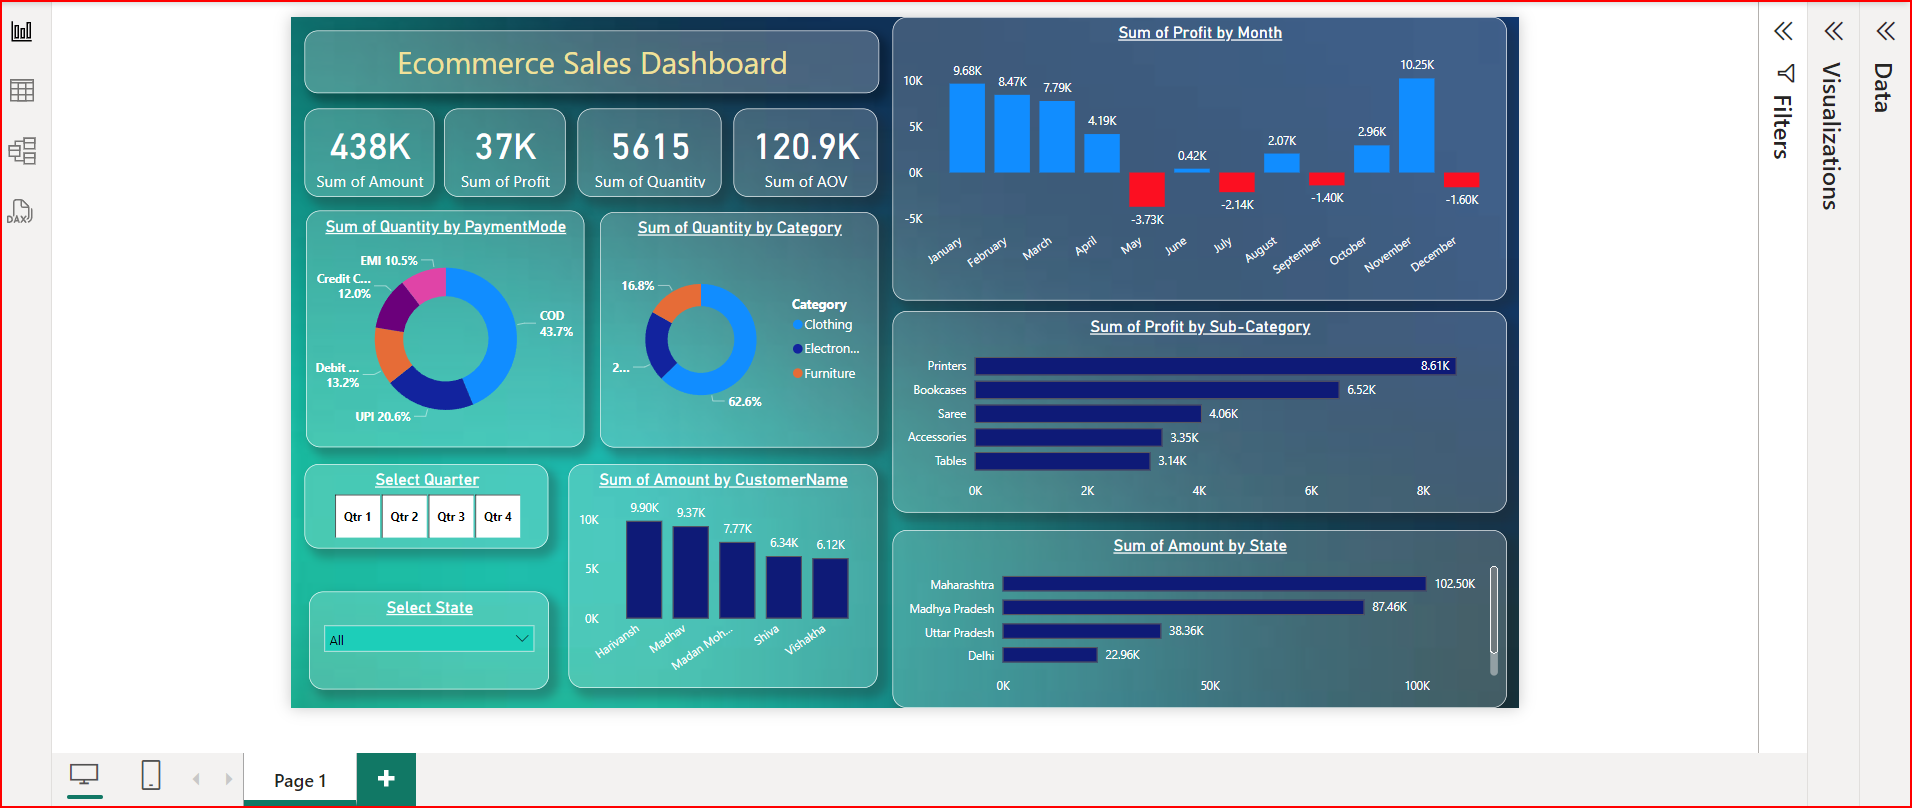

What the dashboard file says about the page in this screenshot:
{"tool":"powerbi","page":{"name":"Page 1","canvas":[1280,720],"ordinal":0},"visuals":[{"type":"textbox","box":[13.3,13.3,598.3,65],"z":0},{"type":"columnChart","fields":{"Y":["Sum(Details.Profit)"],"Category":["Orders.Order Date.Variation.Date Hierarchy.Month"]},"box":[626.7,0,640,295],"z":1000},{"type":"barChart","fields":{"Category":["Details.Sub-Category"],"Y":["Sum(Details.Profit)"]},"box":[626.7,306.7,640,210],"z":2000},{"type":"donutChart","fields":{"Category":["Details.Category"],"Y":["Sum(Details.Quantity)"]},"box":[321.7,203.3,290,245],"z":3000},{"type":"card","fields":{"Values":["Sum(Details.Amount)"]},"box":[13.3,95,135,91.7],"z":4000},{"type":"card","fields":{"Values":["Sum(Details.Profit)"]},"box":[160,95,126.7,91.7],"z":5000},{"type":"card","fields":{"Values":["Sum(Details.Quantity)"]},"box":[298.3,95,150,91.7],"z":6000},{"type":"card","fields":{"Values":["Sum(Details.AOV)"]},"box":[461.7,95,150,91.7],"z":7000},{"type":"barChart","fields":{"Category":["Orders.State","Details.Sub-Category"],"Y":["Sum(Details.Amount)"]},"box":[626.7,535,640,185],"z":8000},{"type":"donutChart","fields":{"Category":["Details.PaymentMode"],"Y":["Sum(Details.Quantity)"]},"box":[15,201.7,290,246.7],"z":9000},{"type":"columnChart","fields":{"Category":["Orders.CustomerName"],"Y":["Sum(Details.Amount)"]},"box":[288.3,465,321.7,233.3],"z":10000},{"type":"slicer","title":"Select Quarter","fields":{"Values":["Orders.Order Date.Variation.Date Hierarchy.Quarter"]},"box":[14,466,254,88],"z":11000},{"type":"slicer","title":"Select State","fields":{"Values":["Orders.State"]},"box":[18,598,250,102],"z":12000}]}

Visuals, with their boxes on the page's 1280x720 design canvas (x1, y1, x2, y2). These are canvas units, not pixel positions in the 1912x808 screenshot, which may show the page scaled, cropped or inside an application window:
textbox: pyautogui.locateOnScreen(13, 13, 612, 78)
columnChart - Sum(Details.Profit) x Orders.Order Date.Variation.Date Hierarchy.Month: pyautogui.locateOnScreen(627, 0, 1267, 295)
barChart - Details.Sub-Category x Sum(Details.Profit): pyautogui.locateOnScreen(627, 307, 1267, 517)
donutChart - Details.Category x Sum(Details.Quantity): pyautogui.locateOnScreen(322, 203, 612, 448)
card - Sum(Details.Amount): pyautogui.locateOnScreen(13, 95, 148, 187)
card - Sum(Details.Profit): pyautogui.locateOnScreen(160, 95, 287, 187)
card - Sum(Details.Quantity): pyautogui.locateOnScreen(298, 95, 448, 187)
card - Sum(Details.AOV): pyautogui.locateOnScreen(462, 95, 612, 187)
barChart - Orders.State x Details.Sub-Category: pyautogui.locateOnScreen(627, 535, 1267, 720)
donutChart - Details.PaymentMode x Sum(Details.Quantity): pyautogui.locateOnScreen(15, 202, 305, 448)
columnChart - Orders.CustomerName x Sum(Details.Amount): pyautogui.locateOnScreen(288, 465, 610, 698)
"Select Quarter" slicer: pyautogui.locateOnScreen(14, 466, 268, 554)
"Select State" slicer: pyautogui.locateOnScreen(18, 598, 268, 700)
